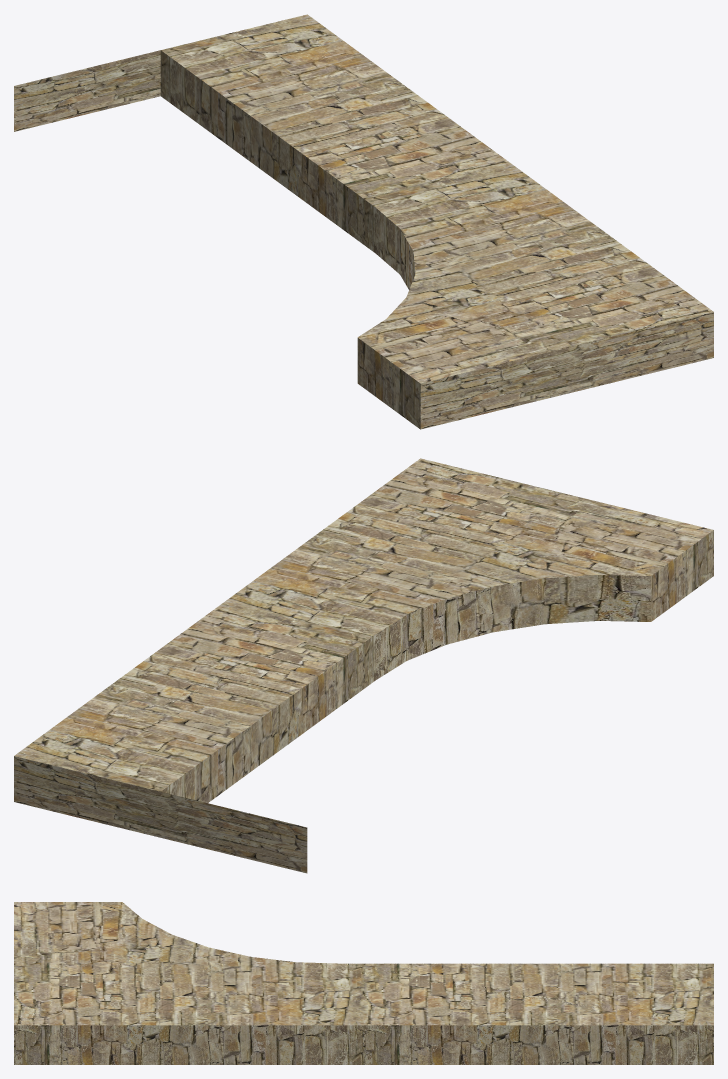
File: walldoorL.obj
The picture shows the model from 3 angles, top to bottom: view 1: azimuth 30°, elevation 25°; view 2: azimuth 150°, elevation 25°; view 3: azimuth 270°, elevation 25°; orthographic projection. The views are drawn at different scales.
Visible parts, largest first — view 1: Box096_Mesh.003; view 2: Box096_Mesh.003; view 3: Box096_Mesh.003.
Part boxes in pixels (x1,y1,x2,y2): Box096_Mesh.003: (14,14,713,429); Box096_Mesh.003: (14,458,713,873); Box096_Mesh.003: (14,902,713,1064).
Bounding box in the file's own units: 1 × 0.15 × 2.4.
